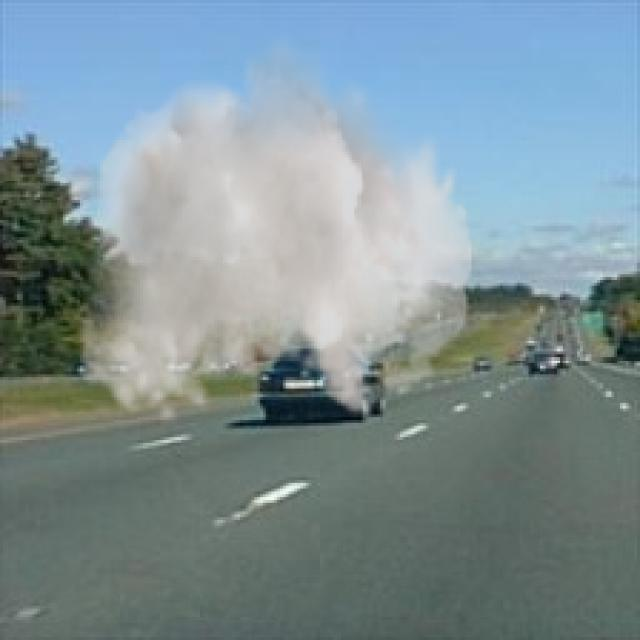Smoke: (77, 28, 474, 426)
